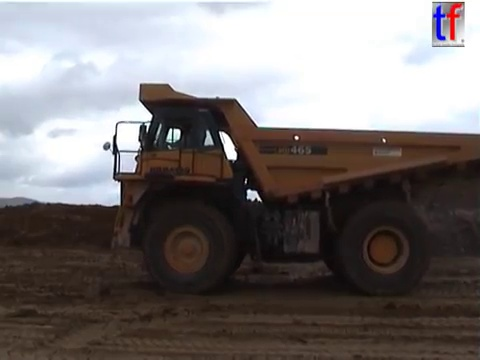truck: (100, 80, 479, 297)
